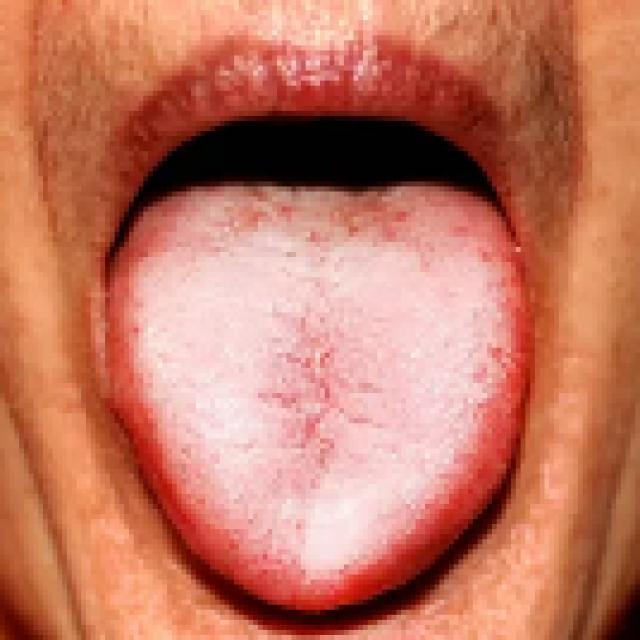No Cancer: (154, 142, 490, 374)
